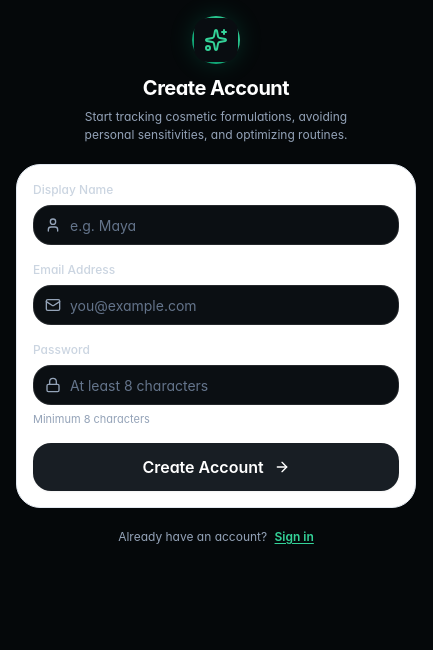
Test: Auth UI Components & ProtectedRoute Guard › RegisterPage › displays inline conflict notification when email is already registered (409)
The width and height of the screenshot is (433, 650).
Type "Existing User" into the field labelled "Display Name" at (216, 225), box [33, 205, 399, 245]
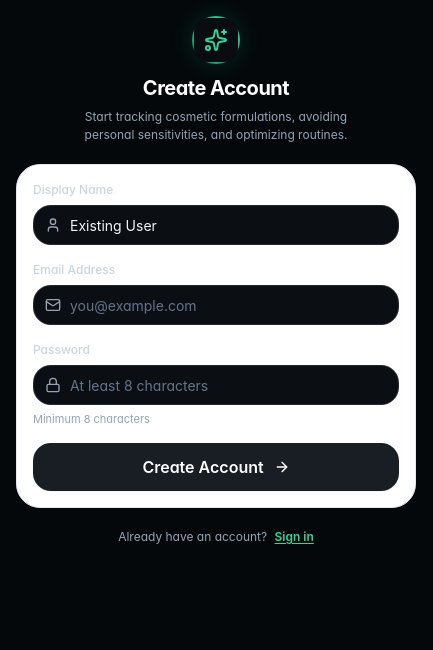
Type "exists@example.com" into the field labelled "Email Address" at (216, 305), box [33, 285, 399, 325]
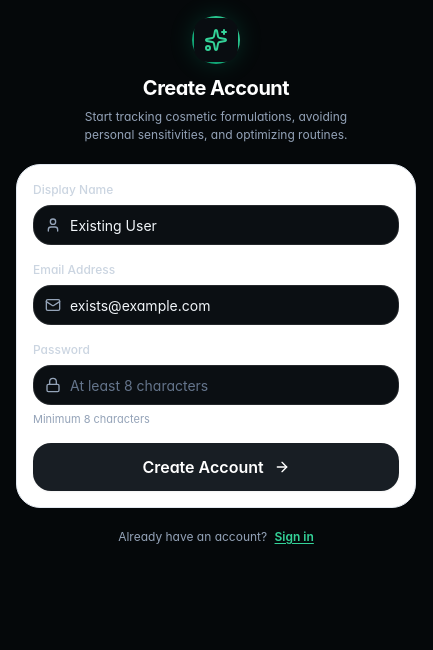
Type "Password123!" into the password field labelled "Password" at (216, 385), box [33, 365, 399, 405]
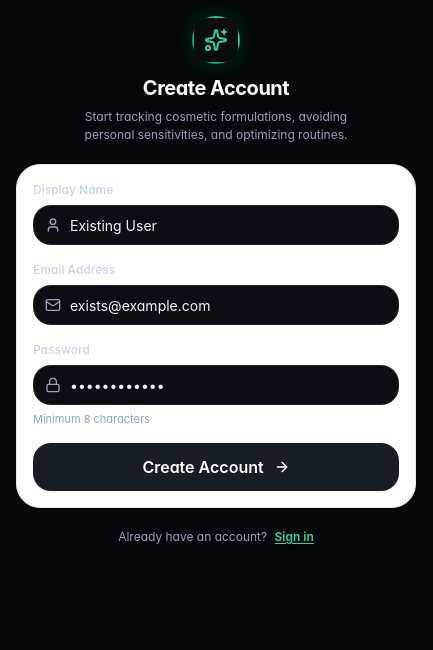
Click the button "Create Account" at (216, 467), box [33, 443, 399, 491]
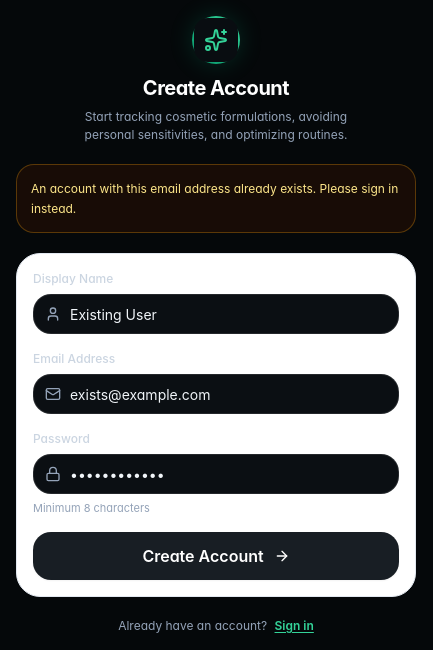
Now the text "An account with this email address already exists. Please sign in instead." is shown, box [16, 164, 416, 233]
